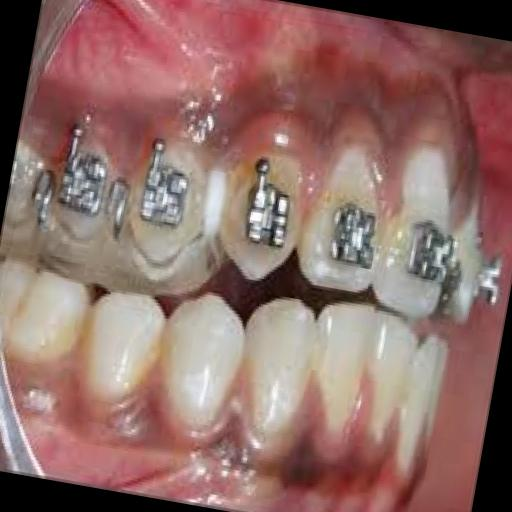correct_brace: (106, 128, 228, 292), (232, 148, 304, 254), (319, 194, 387, 278)
incorrect_brace: (290, 106, 404, 300), (126, 135, 205, 238)
